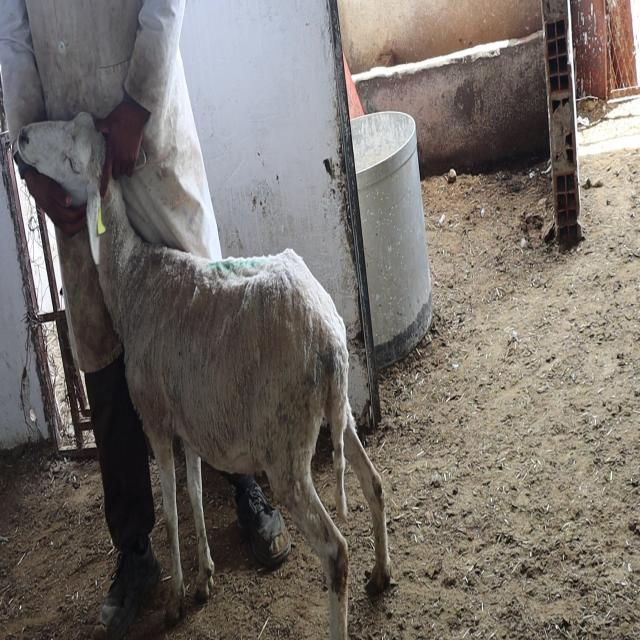Score_1: (13, 113, 391, 639)
